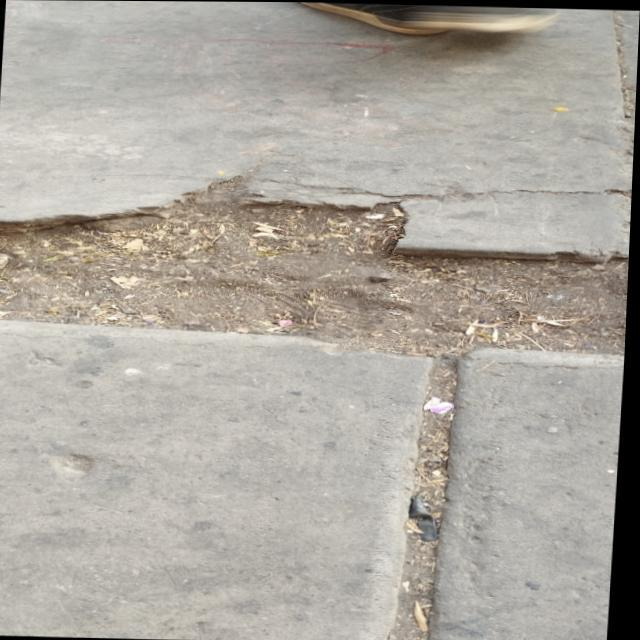hole: (0, 171, 634, 358)
